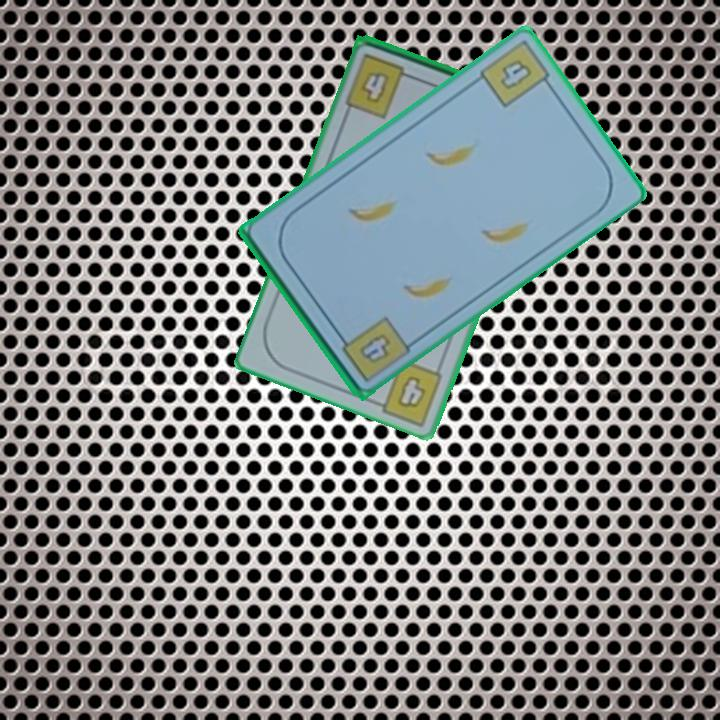4b: (475, 36, 557, 111), (341, 50, 420, 121), (355, 329, 394, 366), (394, 372, 429, 412)
